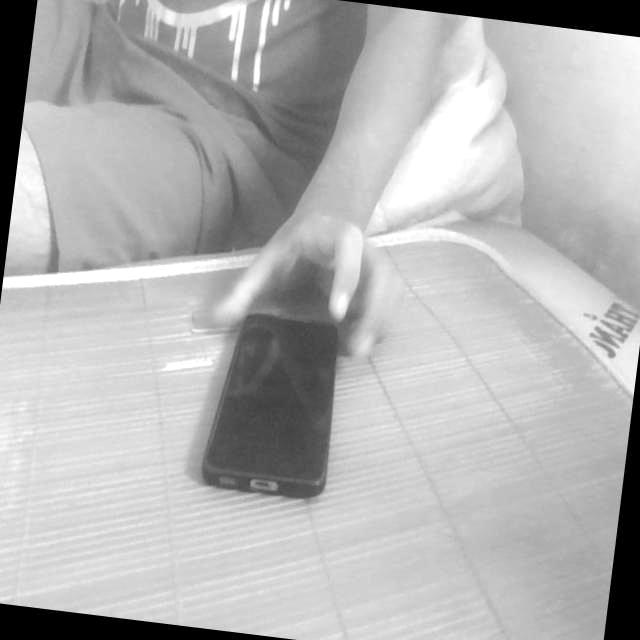phone: (180, 270, 366, 530)
